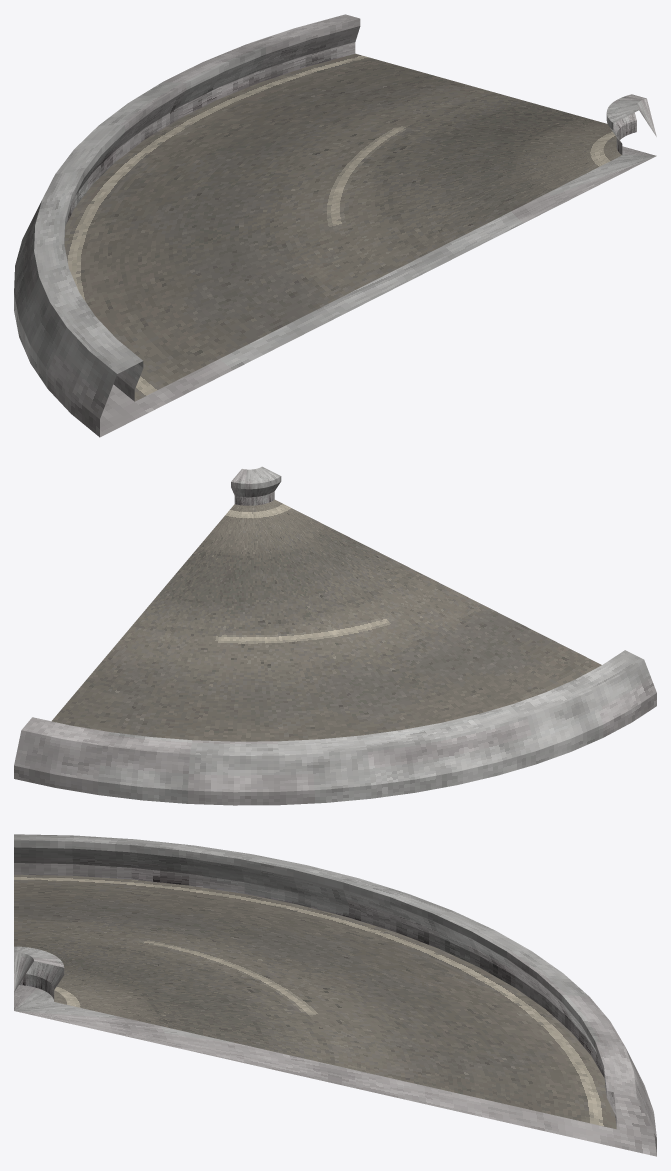
File: turn-right1x1.glb
3 views of the same model, one above another, from view 1: azimuth 30°, elevation 25°; view 2: azimuth 150°, elevation 25°; view 3: azimuth 270°, elevation 25° (orthographic). The views are drawn at different scales.
Visible parts, largest first — view 1: road-Turn-HalfBankedLeft-HalfBankedLeft-Even-Right-Size1; view 2: road-Turn-HalfBankedLeft-HalfBankedLeft-Even-Right-Size1; view 3: road-Turn-HalfBankedLeft-HalfBankedLeft-Even-Right-Size1.
Boxes of the visible parts, x1,y1,x2,y2 form: road-Turn-HalfBankedLeft-HalfBankedLeft-Even-Right-Size1: (14, 14, 656, 437); road-Turn-HalfBankedLeft-HalfBankedLeft-Even-Right-Size1: (14, 466, 656, 805); road-Turn-HalfBankedLeft-HalfBankedLeft-Even-Right-Size1: (14, 834, 656, 1156).
Bounding box in the file's own units: 1 × 0.3359 × 1.
Materials: 2 (2 with a texture image).
